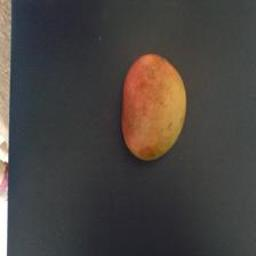Mango Semifresh: (117, 36, 194, 175)
